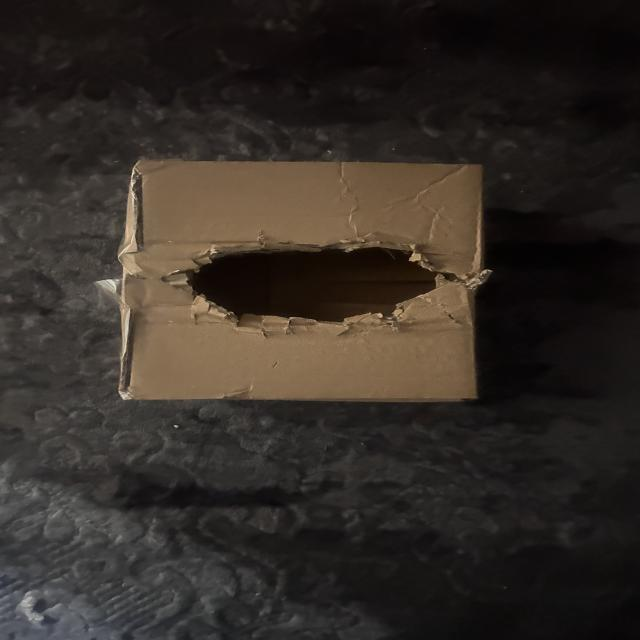damaged: (119, 152, 486, 414), (158, 219, 468, 346)
